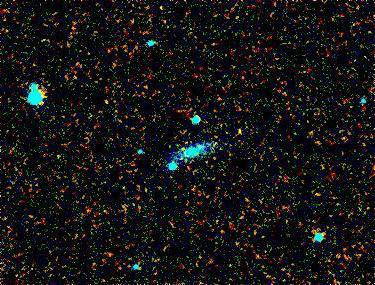star: (224, 119, 254, 149)
